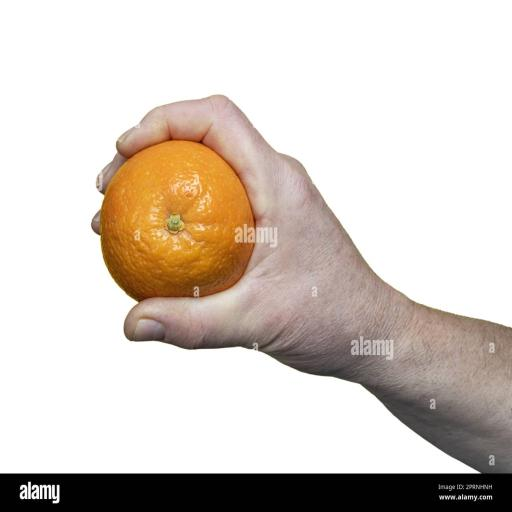orange: (101, 141, 254, 300)
